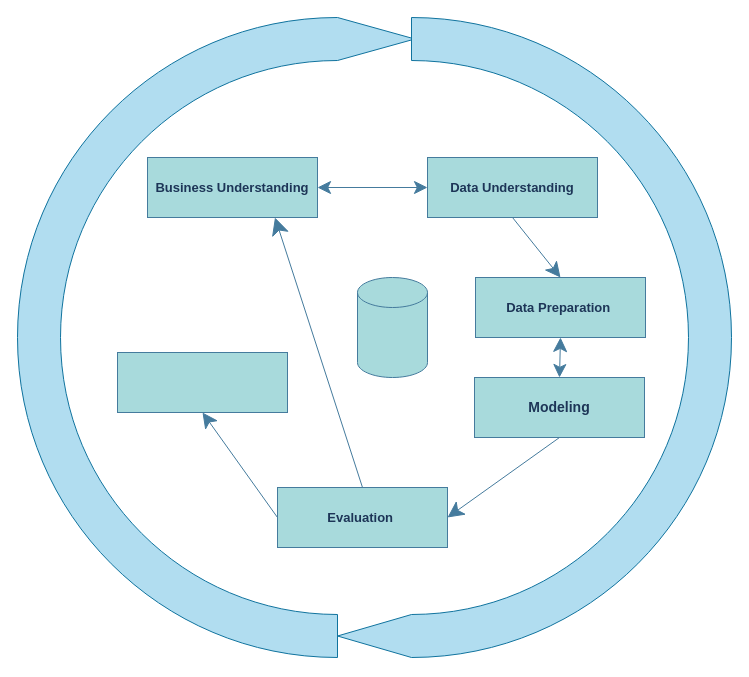
The diagram is 749 pixels wide and 677 high, and some of its shapes have lost their labels. The shapes that lost their labels are listed below. From the top down, each one's box as (x1, y1, x2, y2) in pixels, then its label:
(356, 276, 428, 378): Datasets
(116, 352, 288, 412): Deployment
